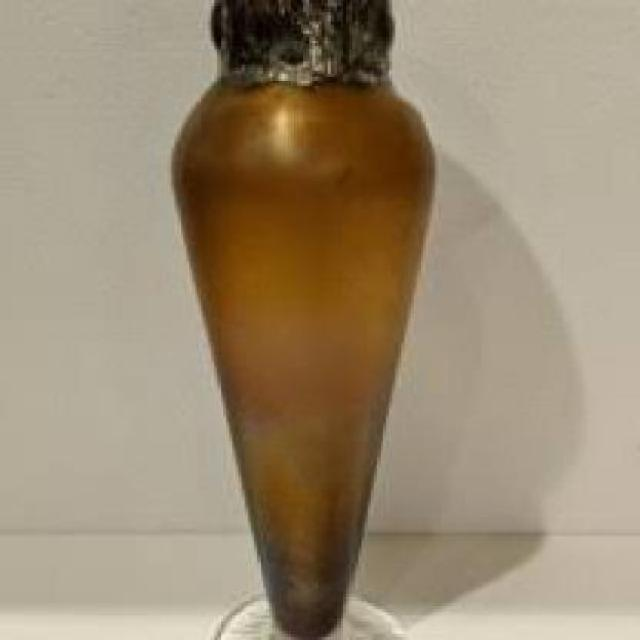kaca: (166, 0, 432, 637)
